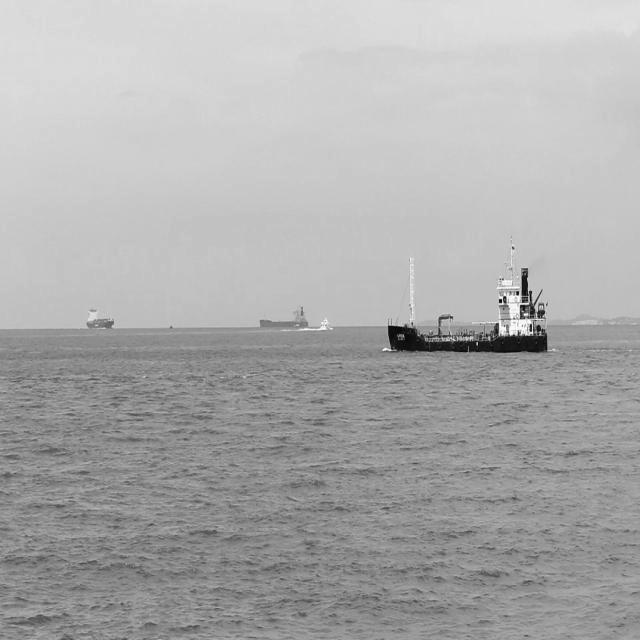ship: (386, 231, 552, 355), (260, 298, 311, 332), (84, 301, 116, 329), (318, 312, 332, 332)
